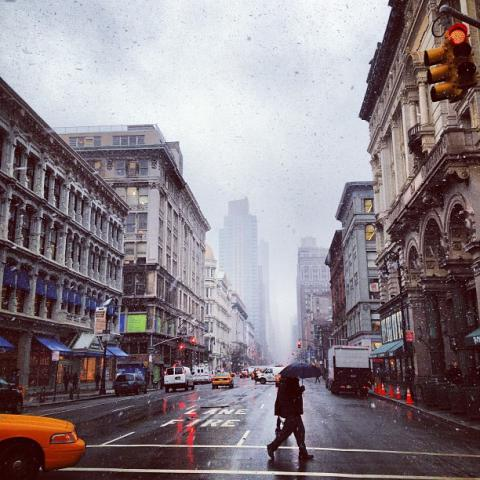car: (2, 413, 88, 479), (0, 378, 25, 416), (112, 373, 147, 397), (212, 372, 234, 387), (239, 370, 250, 378)
truck: (325, 345, 370, 397), (163, 366, 196, 392), (254, 367, 287, 384), (192, 366, 214, 385)
